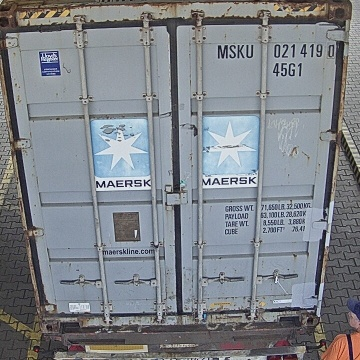serial_id: (218, 43, 335, 58)
